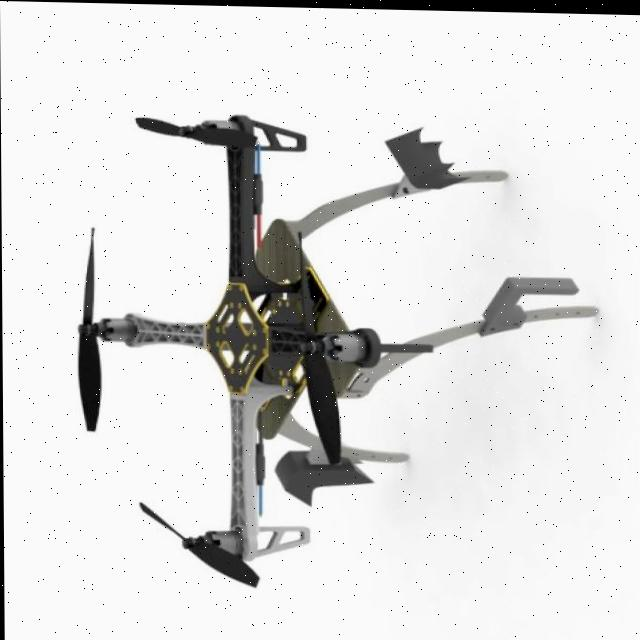drone: (75, 89, 401, 591)
